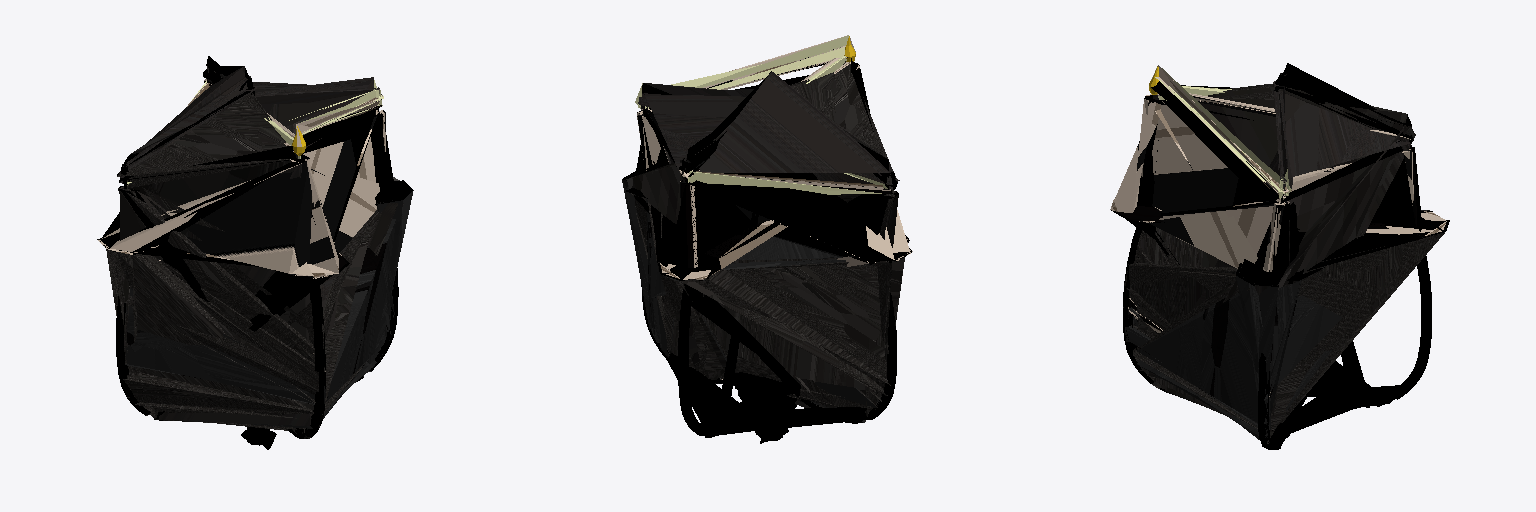
3 renders of one model, left to right at view 1: azimuth 30°, elevation 25°; view 2: azimuth 150°, elevation 25°; view 3: azimuth 270°, elevation 25°, orthographic.
Visible parts, largest first — view 1: Enemy, Candelabrum; view 2: Enemy, Candelabrum; view 3: Enemy, Candelabrum.
Part boxes in pixels (bbox=[...]): Enemy: bbox=[97, 61, 413, 438]; Candelabrum: bbox=[100, 56, 412, 449]; Enemy: bbox=[622, 35, 912, 422]; Candelabrum: bbox=[623, 35, 911, 443]; Enemy: bbox=[1110, 65, 1446, 443]; Candelabrum: bbox=[1111, 63, 1449, 449].
Bounding box in the file's own units: 91.71 × 113 × 91.85.
Materials: 8 (8 with a texture image).